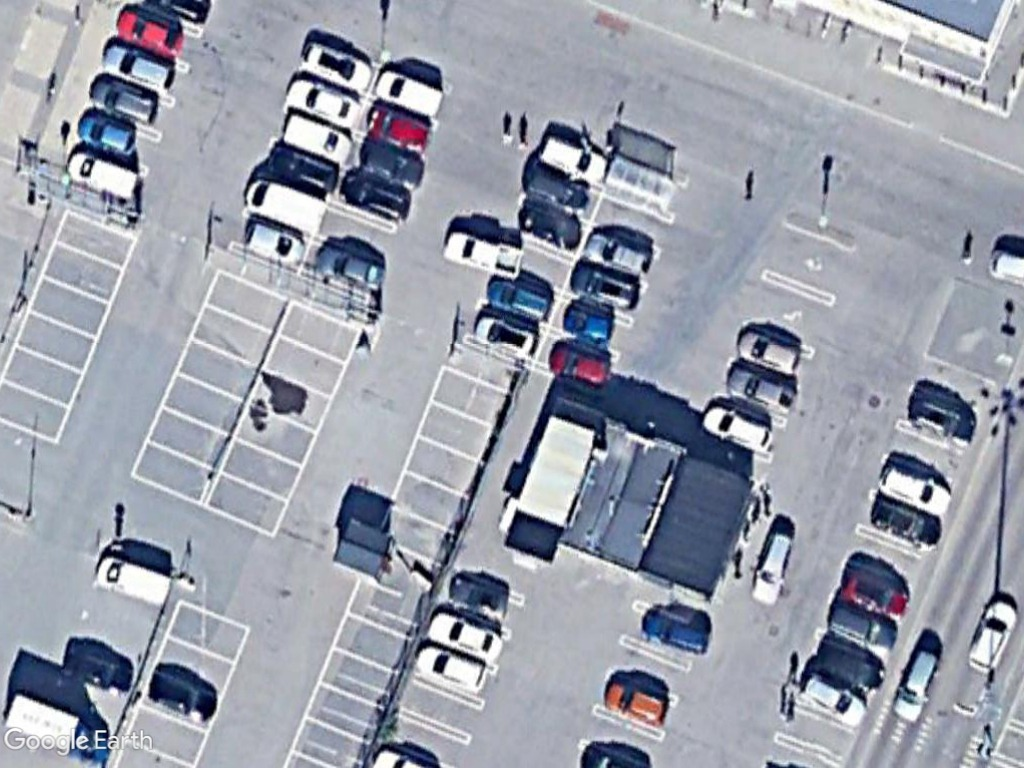car: (294, 34, 375, 100), (864, 492, 946, 554), (421, 606, 509, 663), (697, 396, 777, 458), (534, 127, 612, 190), (876, 459, 959, 518), (887, 643, 945, 727), (413, 636, 494, 696), (94, 41, 180, 97), (283, 74, 365, 131), (820, 596, 900, 654), (966, 593, 1021, 676), (732, 320, 807, 379), (337, 169, 417, 224), (745, 527, 798, 610), (576, 229, 658, 282), (794, 673, 871, 729), (84, 74, 162, 128), (567, 259, 645, 313), (721, 361, 800, 414), (639, 606, 717, 659), (312, 239, 388, 293), (111, 5, 187, 58), (479, 272, 557, 323), (904, 396, 979, 449), (600, 679, 675, 729), (471, 309, 547, 358), (540, 339, 613, 388), (240, 217, 308, 267), (71, 111, 141, 159), (555, 303, 619, 349)
other: (438, 226, 529, 282)
van: (242, 176, 335, 239), (87, 553, 176, 610), (60, 147, 147, 203), (273, 110, 358, 166), (370, 70, 451, 121)
